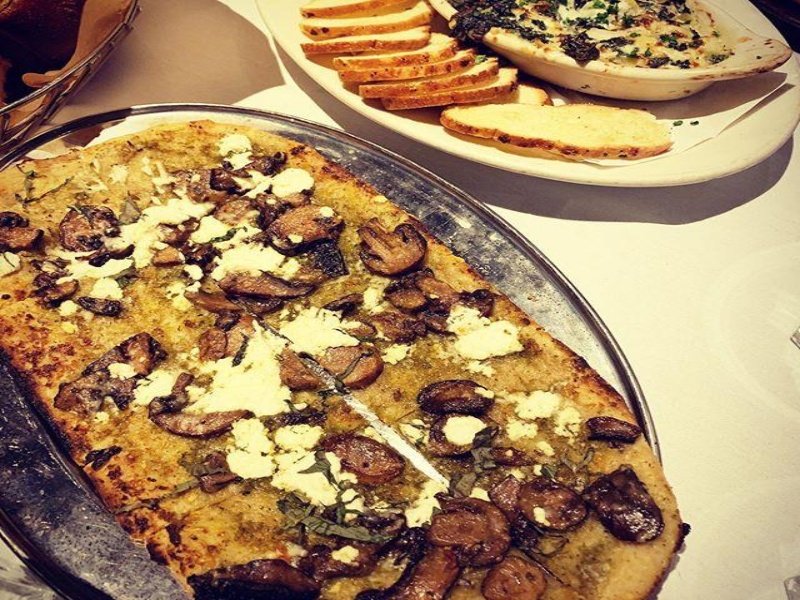champignon: (584, 468, 667, 546), (426, 500, 516, 570), (356, 221, 431, 276), (267, 204, 344, 253), (412, 378, 503, 418)
